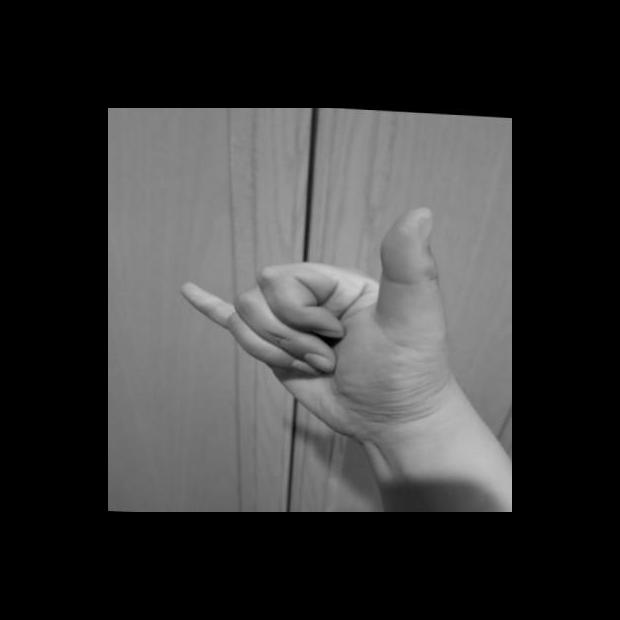X: (171, 188, 462, 451)
